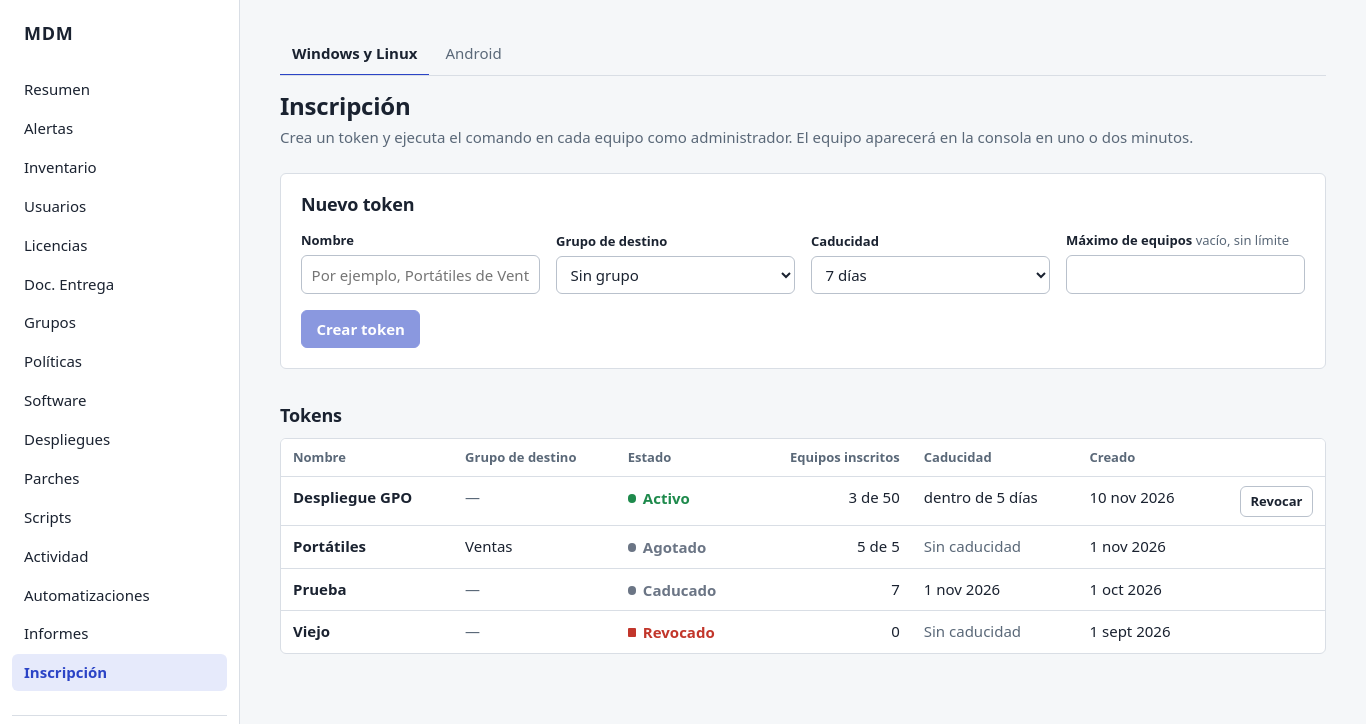
Test: Inscripción › al cerrar el aviso el token ya no aparece en la página
In the field labelled "Nombre": (420, 275) [301,256,540,294], type "Oficina Girona"
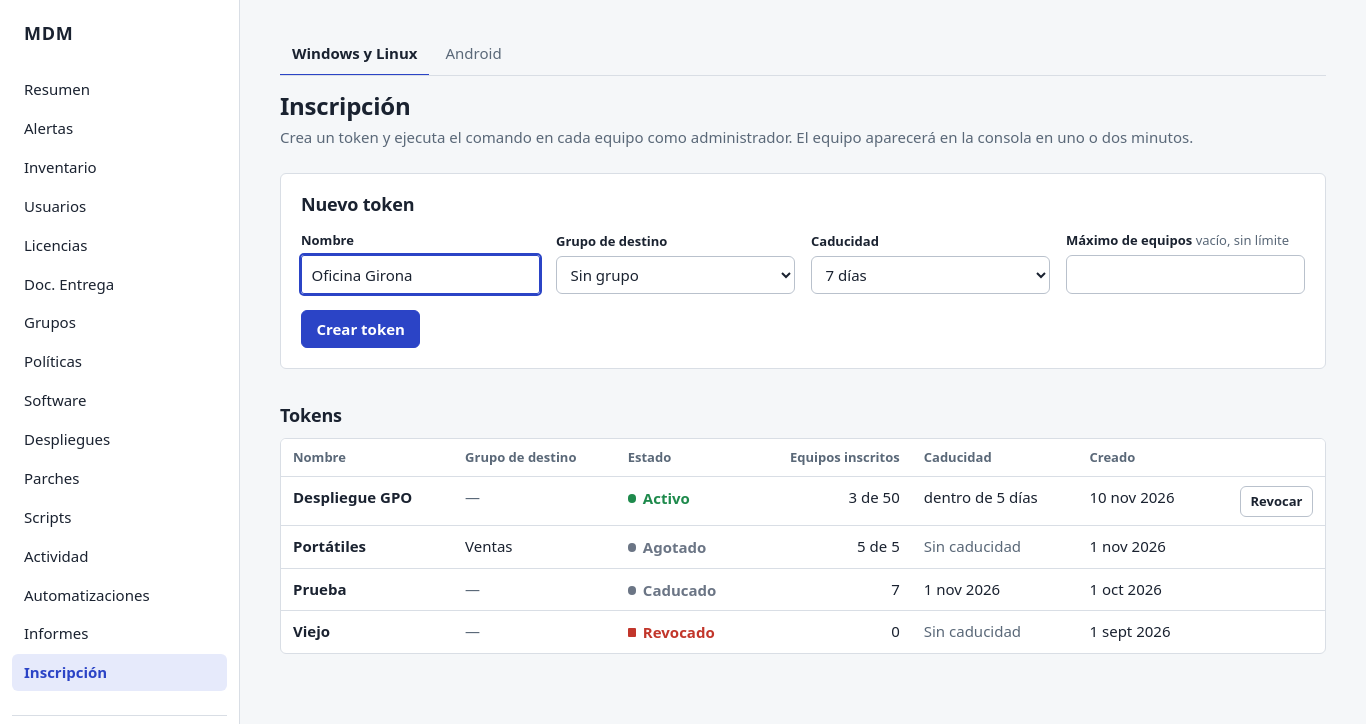
Click the button "Crear token": click(361, 329) [301,310,420,348]
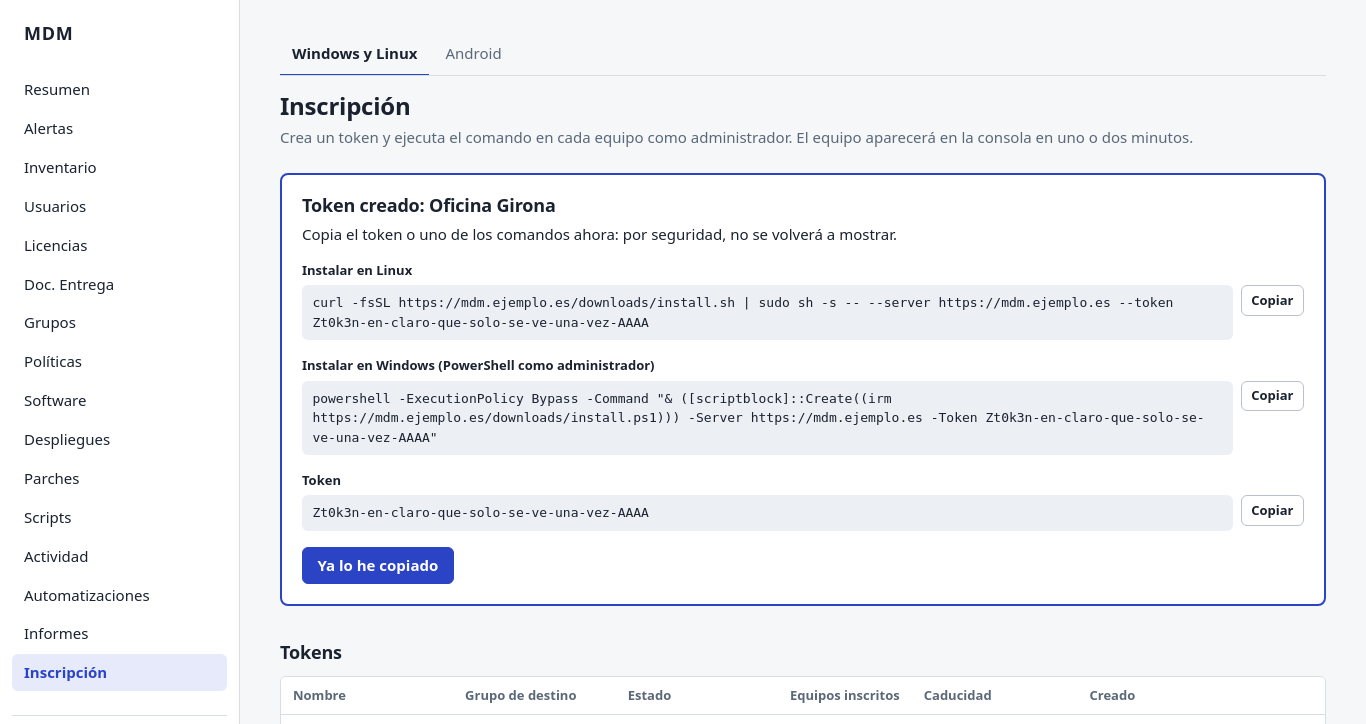
Now the element "Token creado" is shown, box [280,173,1326,606]
Click the button "Ya lo he copiado": click(378, 566) [302,547,454,584]
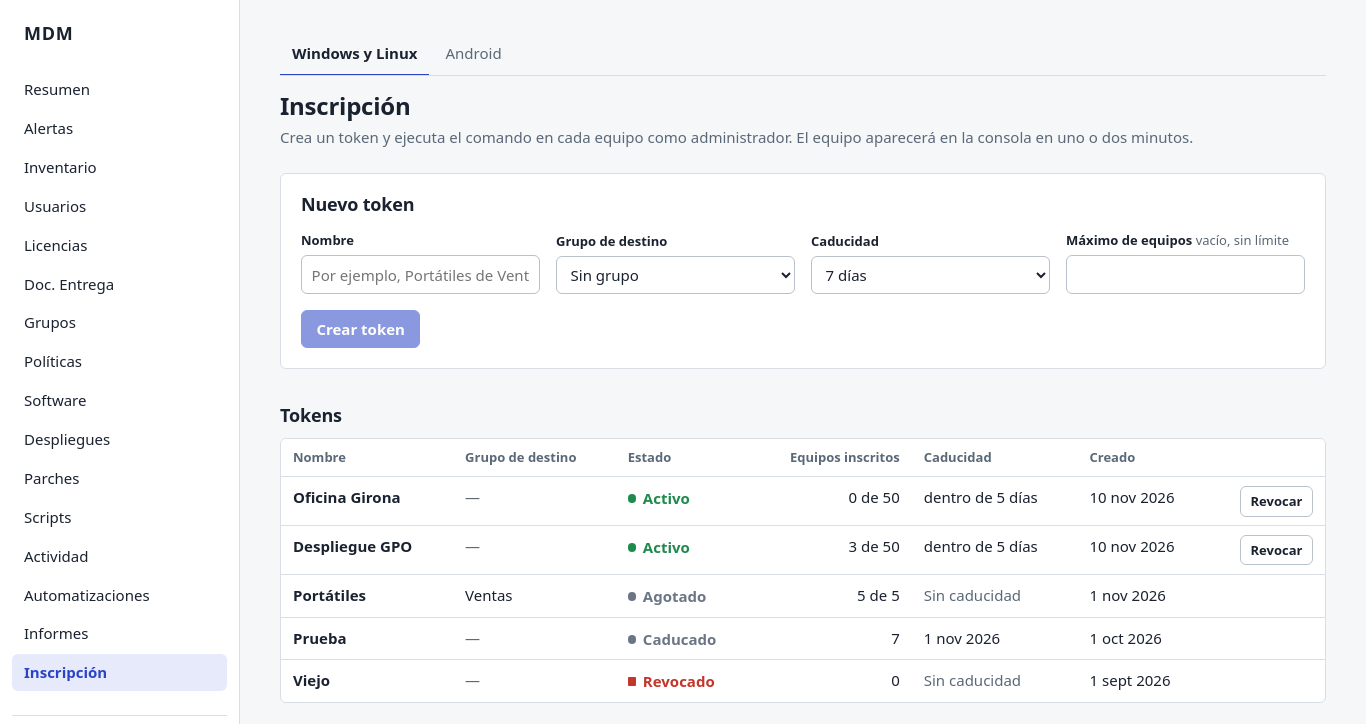
Now the text "Oficina Girona" is shown, box [293,487,401,507]
Now the text "Zt0k3n" is gone
